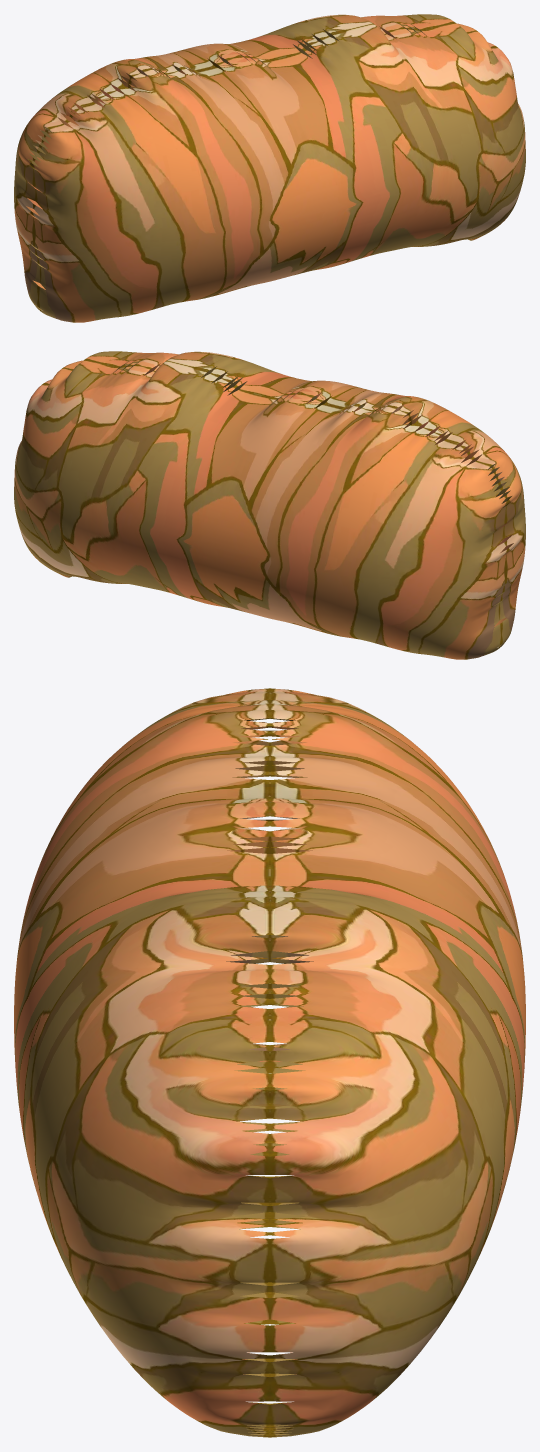
File: canyon_cliff.glb
3 renders of one model, top to bottom at view 1: azimuth 30°, elevation 25°; view 2: azimuth 150°, elevation 25°; view 3: azimuth 270°, elevation 25°, orthographic. The views are drawn at different scales.
Parts seen in each view (by area): view 1: canyon_cliff; view 2: canyon_cliff; view 3: canyon_cliff.
Boxes of the visible parts, <box> form: canyon_cliff: <box>14,14,525,322</box>; canyon_cliff: <box>14,351,525,659</box>; canyon_cliff: <box>14,688,525,1437</box>.
Bounding box in the file's own units: 0.9887 × 0.4625 × 0.4977.
1 material, 1 textured.
